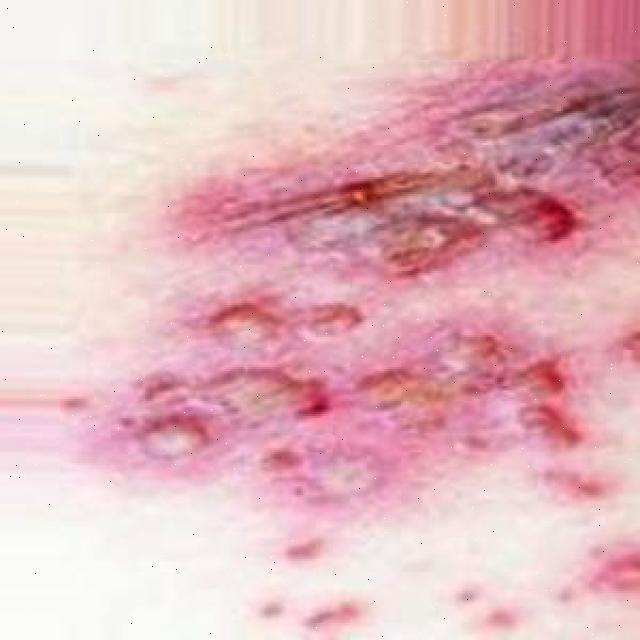Shingles: (123, 77, 640, 509)
